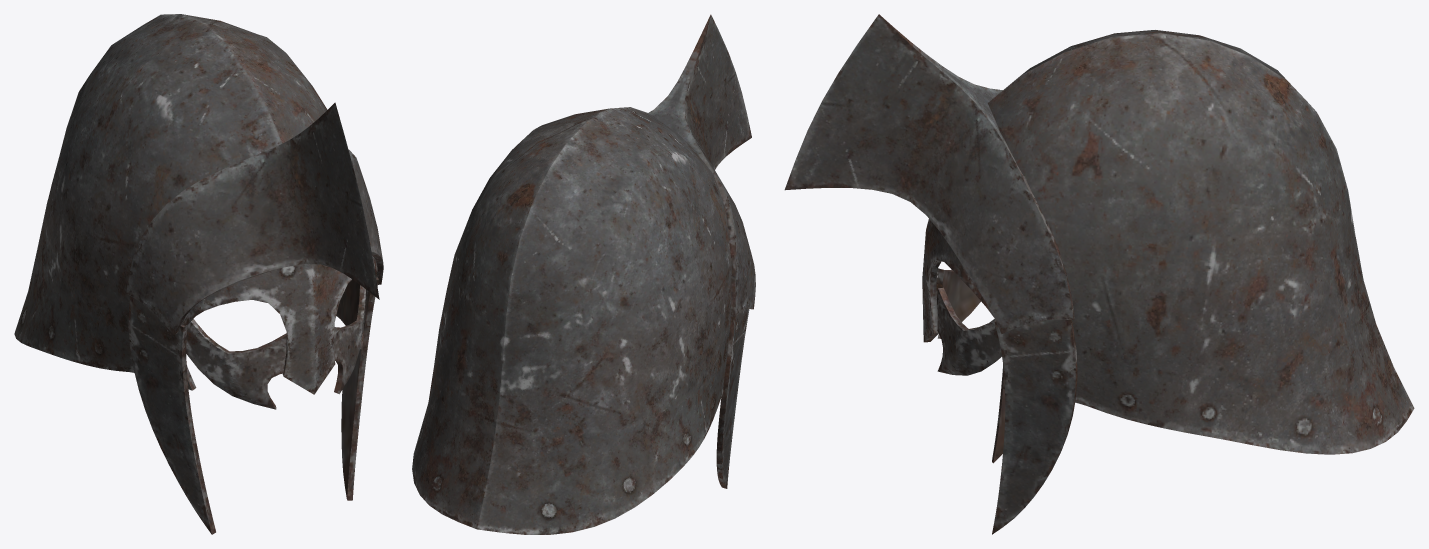
Rendered from sk_gb_uruk_helmet_heavy_b.fbx.
3 views of the same model, side by side, from view 1: azimuth 30°, elevation 25°; view 2: azimuth 150°, elevation 25°; view 3: azimuth 270°, elevation 25° (orthographic). The views are drawn at different scales.
Parts seen in each view (by area): view 1: sk_gb_uruk_helmet_heavy_b; view 2: sk_gb_uruk_helmet_heavy_b; view 3: sk_gb_uruk_helmet_heavy_b.
Boxes of the visible parts, bbox=[...] form: sk_gb_uruk_helmet_heavy_b: bbox=[14, 14, 383, 534]; sk_gb_uruk_helmet_heavy_b: bbox=[412, 14, 755, 534]; sk_gb_uruk_helmet_heavy_b: bbox=[784, 14, 1414, 534].
Bounding box in the file's own units: 0.2034 × 0.3905 × 0.3313.
Materials: 1 (1 with a texture image).
